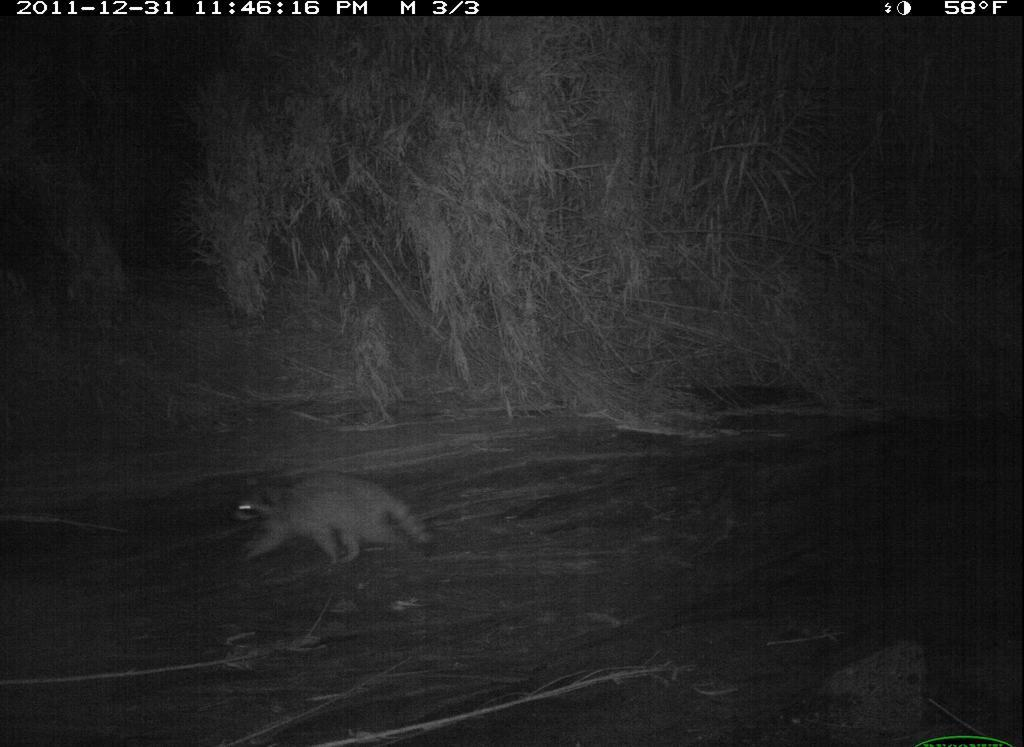raccoon: (214, 461, 452, 573)
